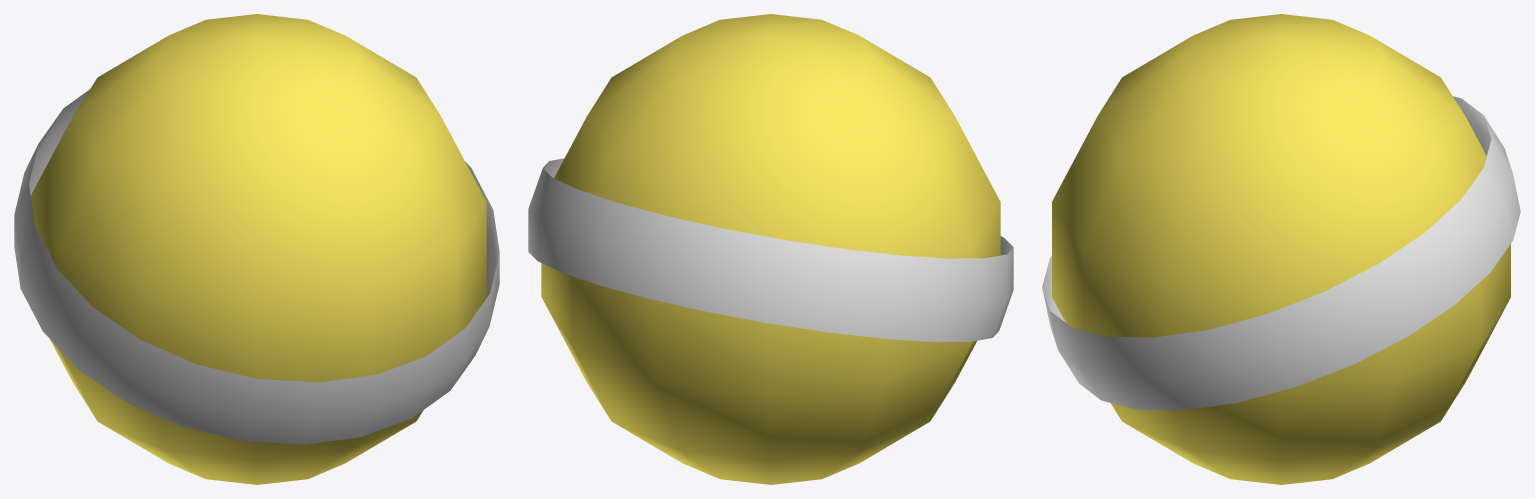
Rendered from tennis_ball.glb.
The picture shows the model from 3 angles, left to right: view 1: azimuth 30°, elevation 25°; view 2: azimuth 150°, elevation 25°; view 3: azimuth 270°, elevation 25°; orthographic projection.
Visible parts, largest first — view 1: tennis_ball; view 2: tennis_ball; view 3: tennis_ball.
Boxes of the visible parts, x1=… form: tennis_ball: x1=14, y1=14, x2=499, y2=484; tennis_ball: x1=528, y1=14, x2=1013, y2=484; tennis_ball: x1=1042, y1=14, x2=1520, y2=484.
Bounding box in the file's own units: 0.069 × 0.066 × 0.0671.
